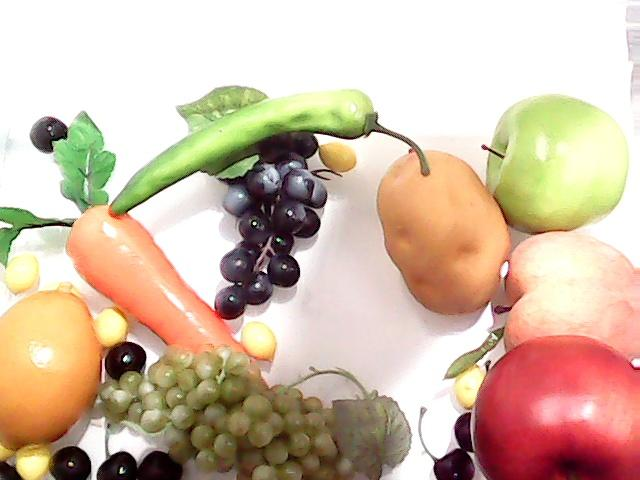apple: (460, 83, 632, 237), (468, 332, 640, 480)
carrot: (1, 112, 248, 354)
grape: (94, 349, 410, 477), (216, 153, 320, 308)
lemon: (0, 276, 102, 450)
peach: (494, 232, 640, 368)
pepper: (102, 82, 430, 230)
potato: (378, 147, 510, 317)
